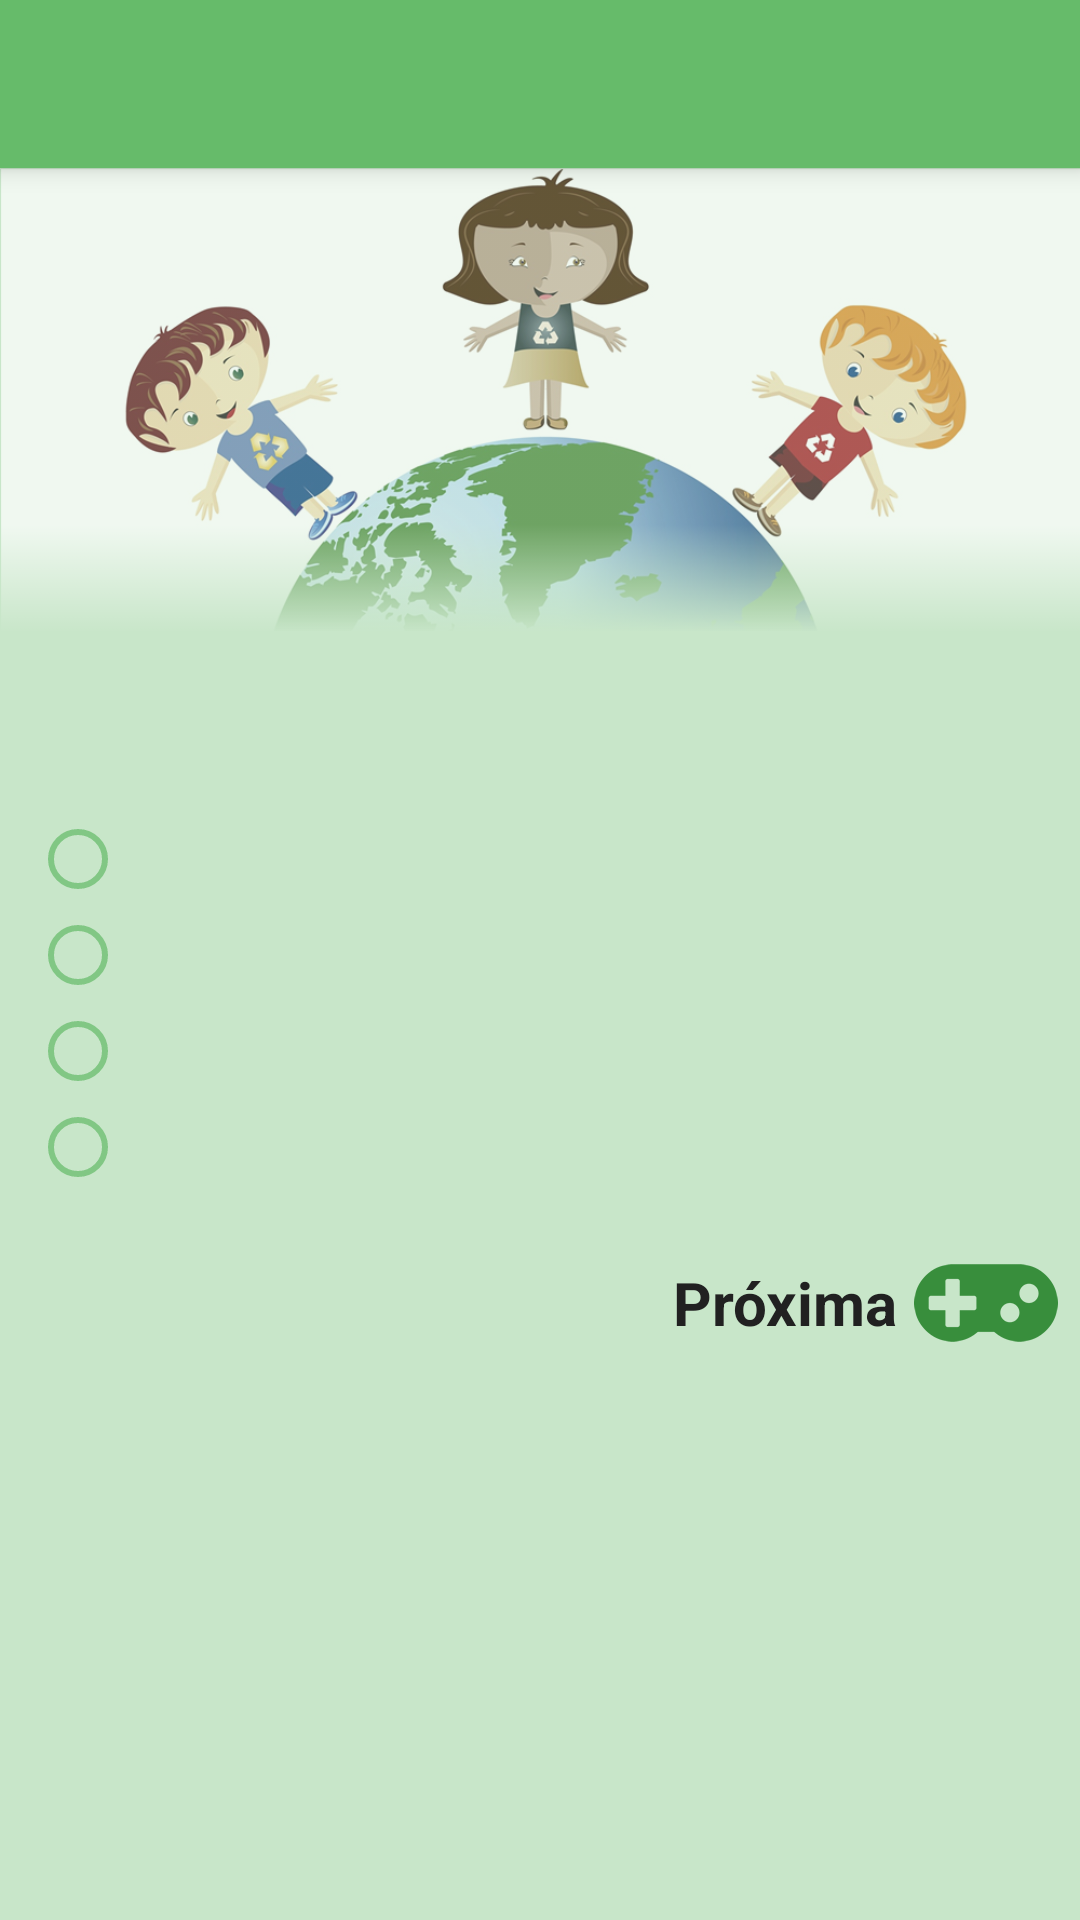

Where icons sit on this 1080*1920 app screen, as (x1, y1, x2, y2):
start: (914, 1264, 1058, 1342)
